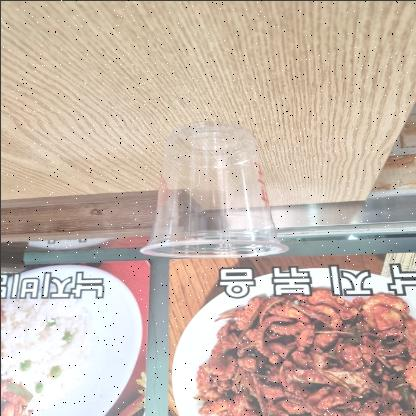Others: (137, 122, 291, 260)
